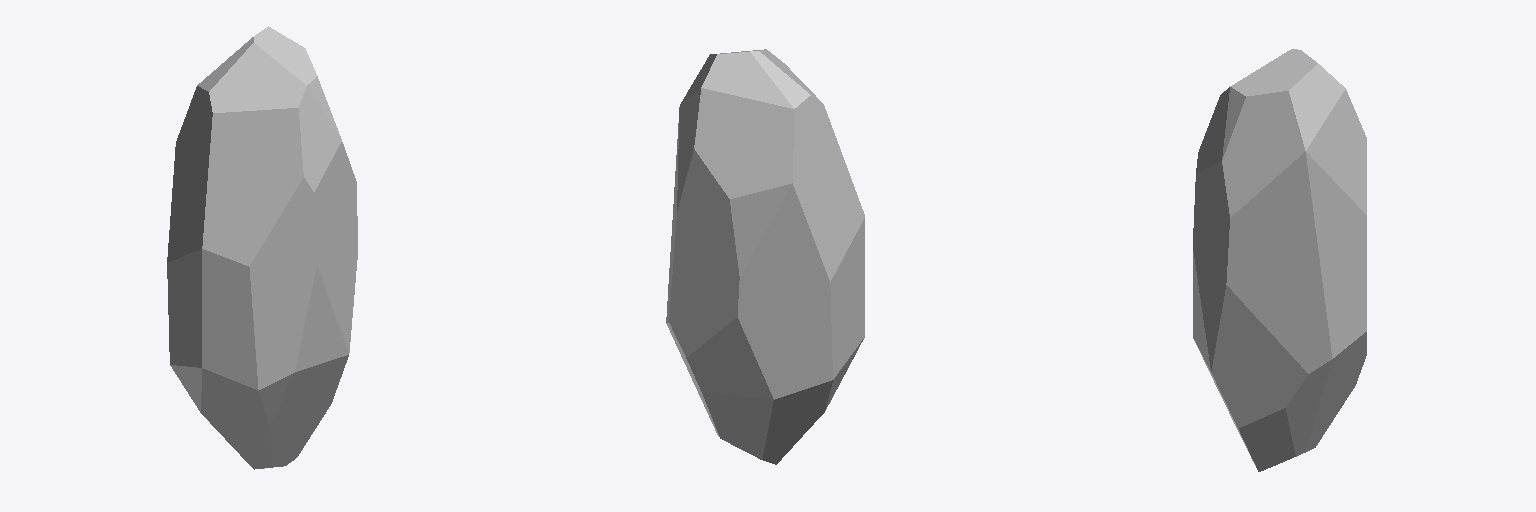
The model's file is Prop_Decorative_Rock_8.obj.
3 renders of one model, left to right at view 1: azimuth 30°, elevation 25°; view 2: azimuth 150°, elevation 25°; view 3: azimuth 270°, elevation 25°, orthographic.
Visible parts, largest first — view 1: Rock; view 2: Rock; view 3: Rock.
Boxes of the visible parts, <box> form: Rock: <box>167,26,357,469</box>; Rock: <box>666,49,864,464</box>; Rock: <box>1193,49,1366,471</box>.
Bounding box in the file's own units: 1 × 2.65 × 1.